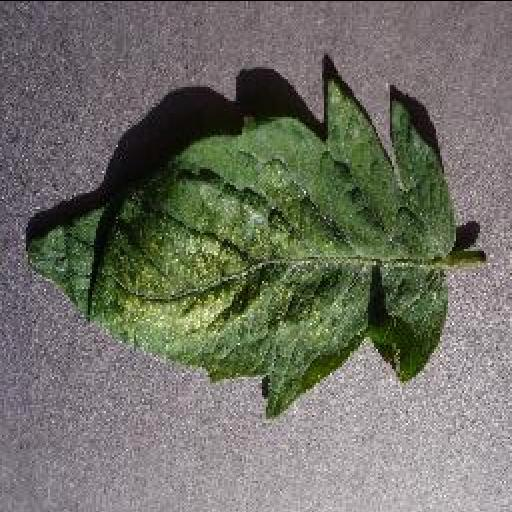disease_tomato: (22, 74, 450, 420)
